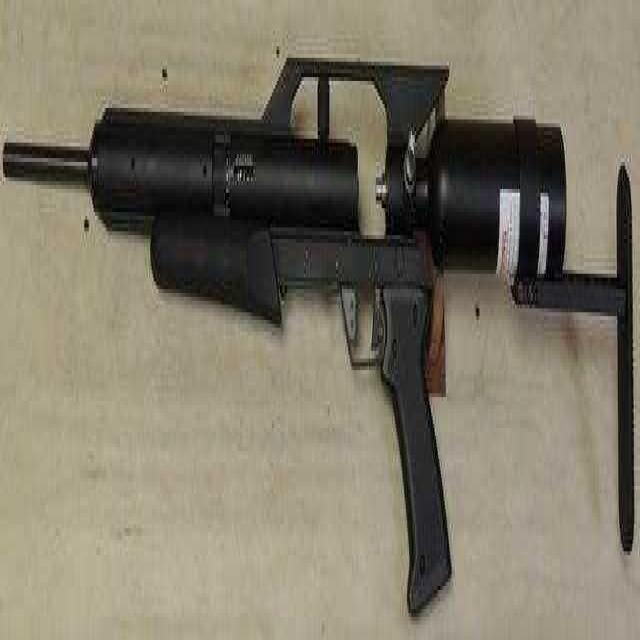weapon: (90, 38, 640, 624)
